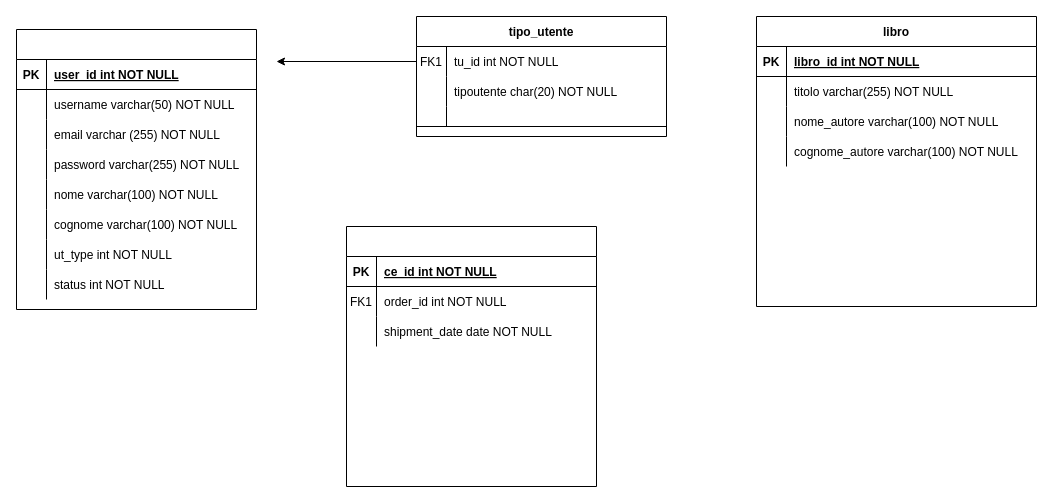
Image size: 1053x503. Some labels were removed from this diagram. Here are the shapes that lost their labels. From the top down, the box of each, then its label:
(16, 28, 256, 310): users
(346, 226, 596, 486): casa_editrice
